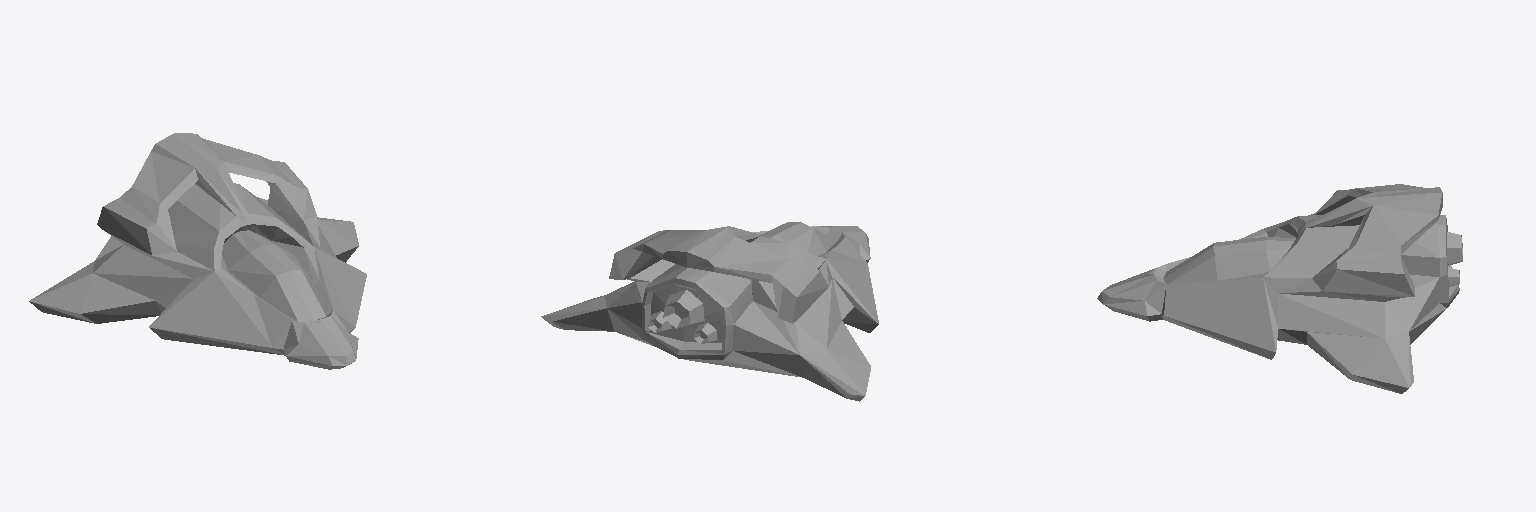
File: gatekeeper.obj
The picture shows the model from 3 angles: view 1: azimuth 30°, elevation 25°; view 2: azimuth 150°, elevation 25°; view 3: azimuth 270°, elevation 25°; orthographic projection.
Parts seen in each view (by area): view 1: Body, Glass; view 2: Body, Glass, Engine; view 3: Body, Glass.
Boxes of the visible parts, <box> form: Body: <box>29,133,366,369</box>; Glass: <box>222,230,325,321</box>; Body: <box>541,226,878,401</box>; Glass: <box>760,222,837,255</box>; Engine: <box>648,302,707,343</box>; Body: <box>1097,184,1462,393</box>; Glass: <box>1163,237,1295,283</box>.
Bounding box in the file's own units: 2.25 × 0.8431 × 2.2.